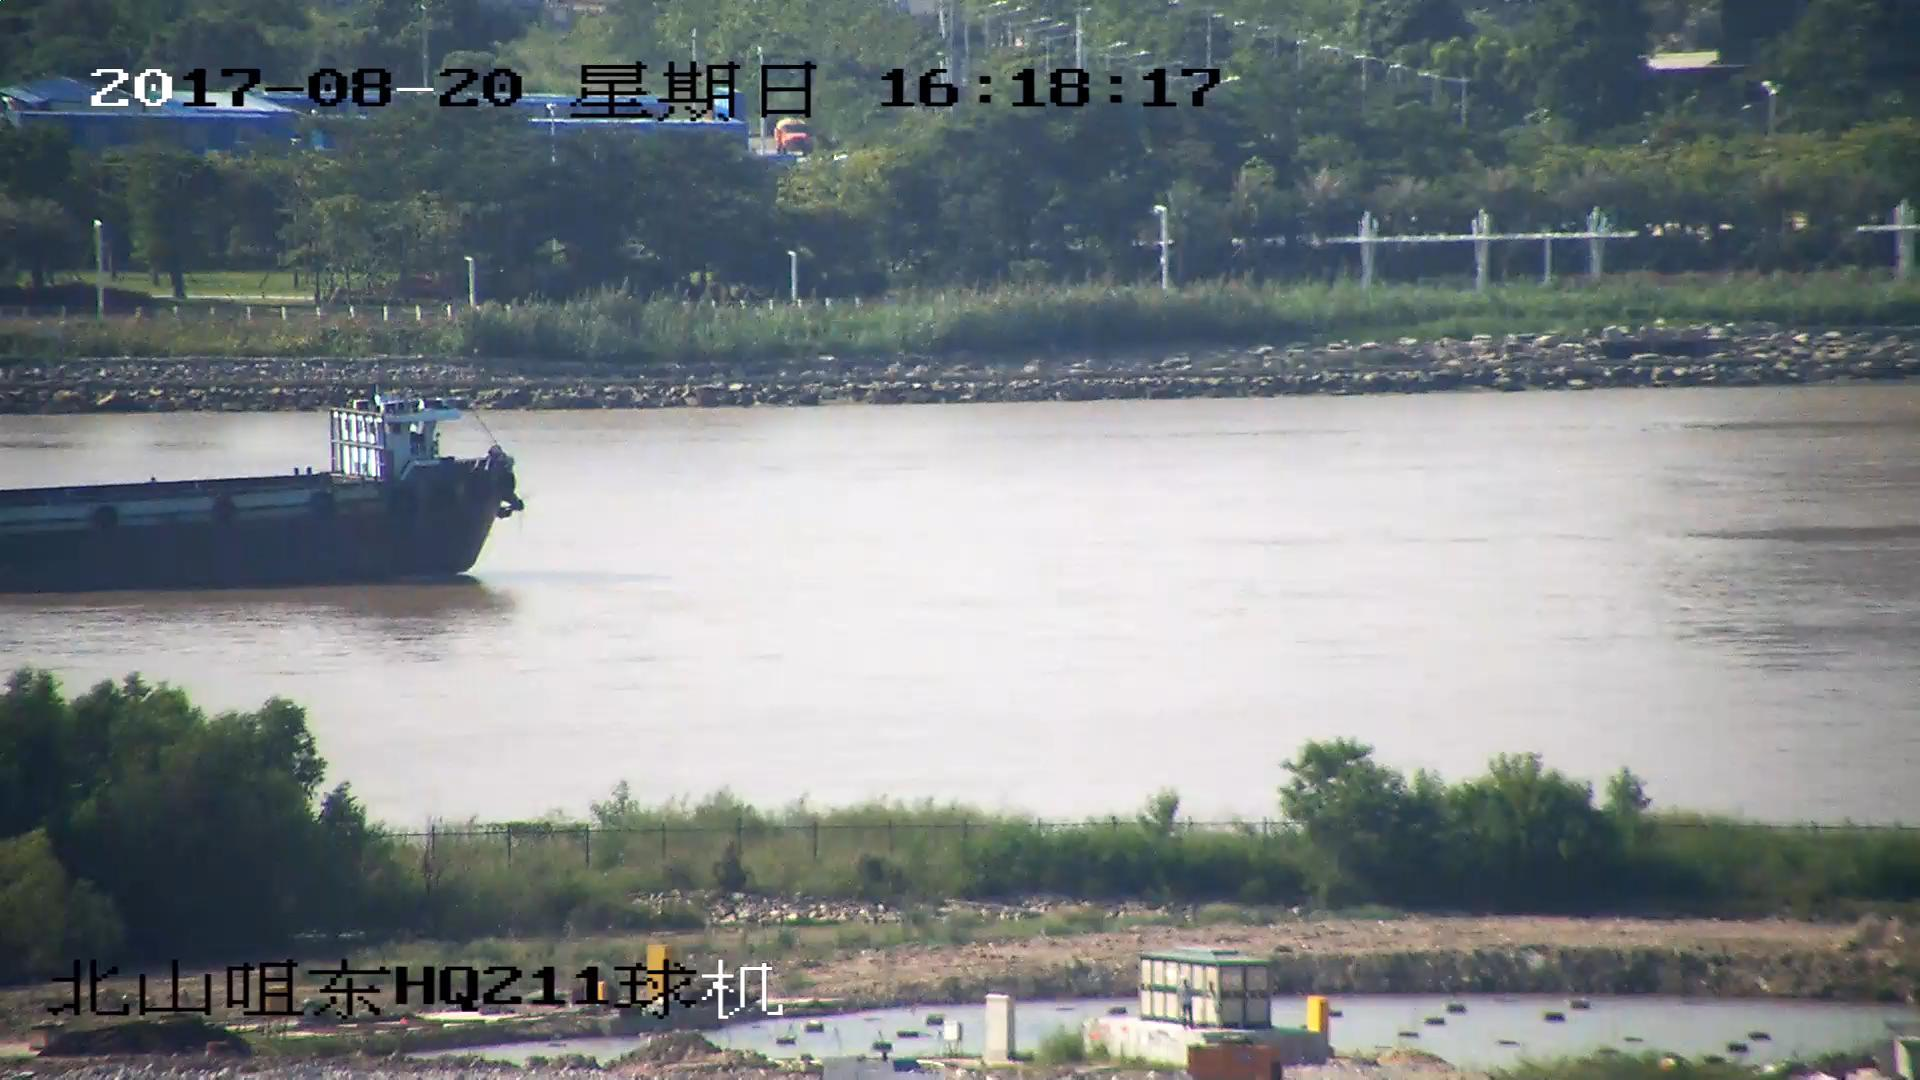Ship: (3, 396, 520, 587)
